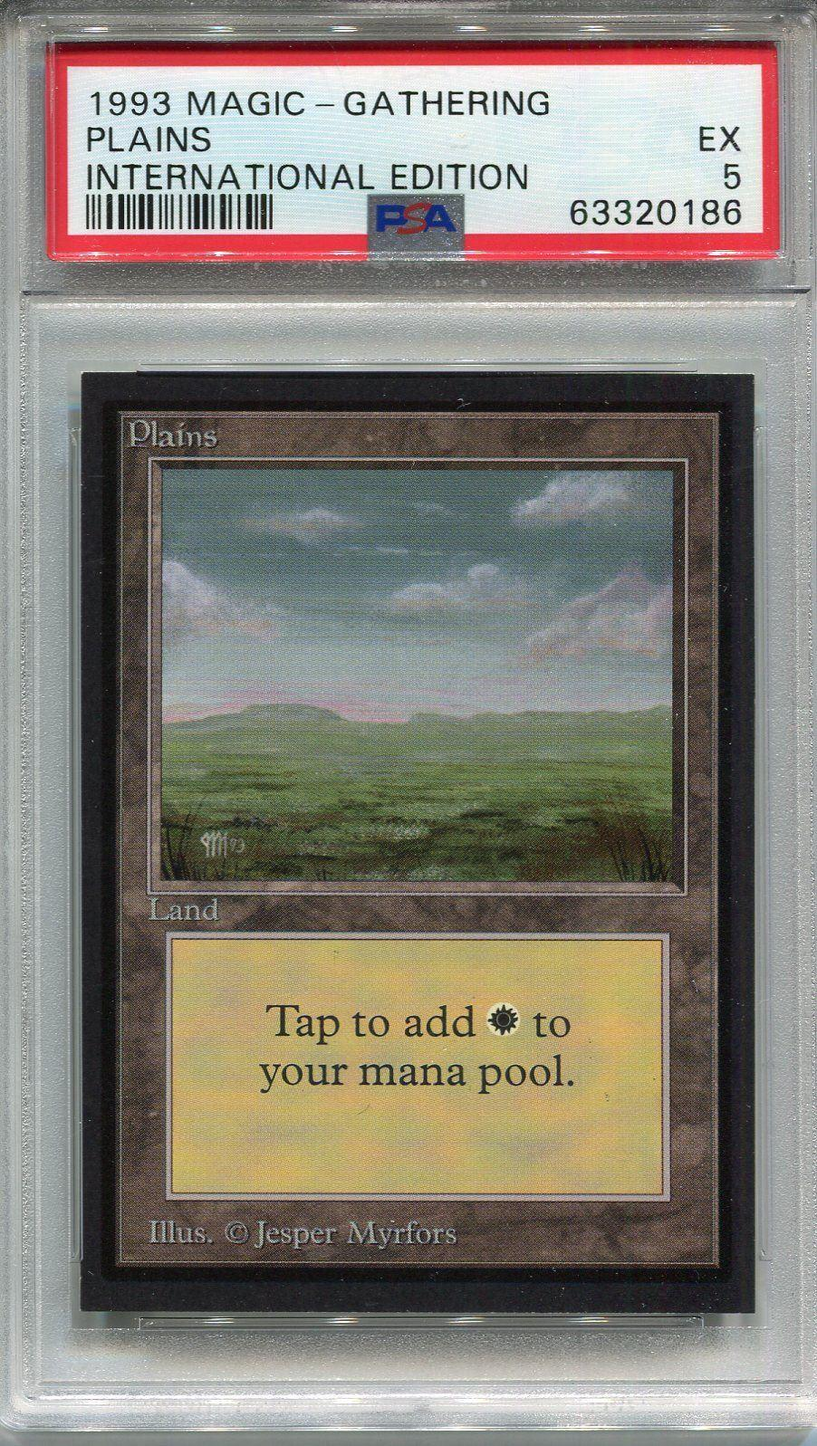card-2UtV: (80, 371, 756, 1315)
